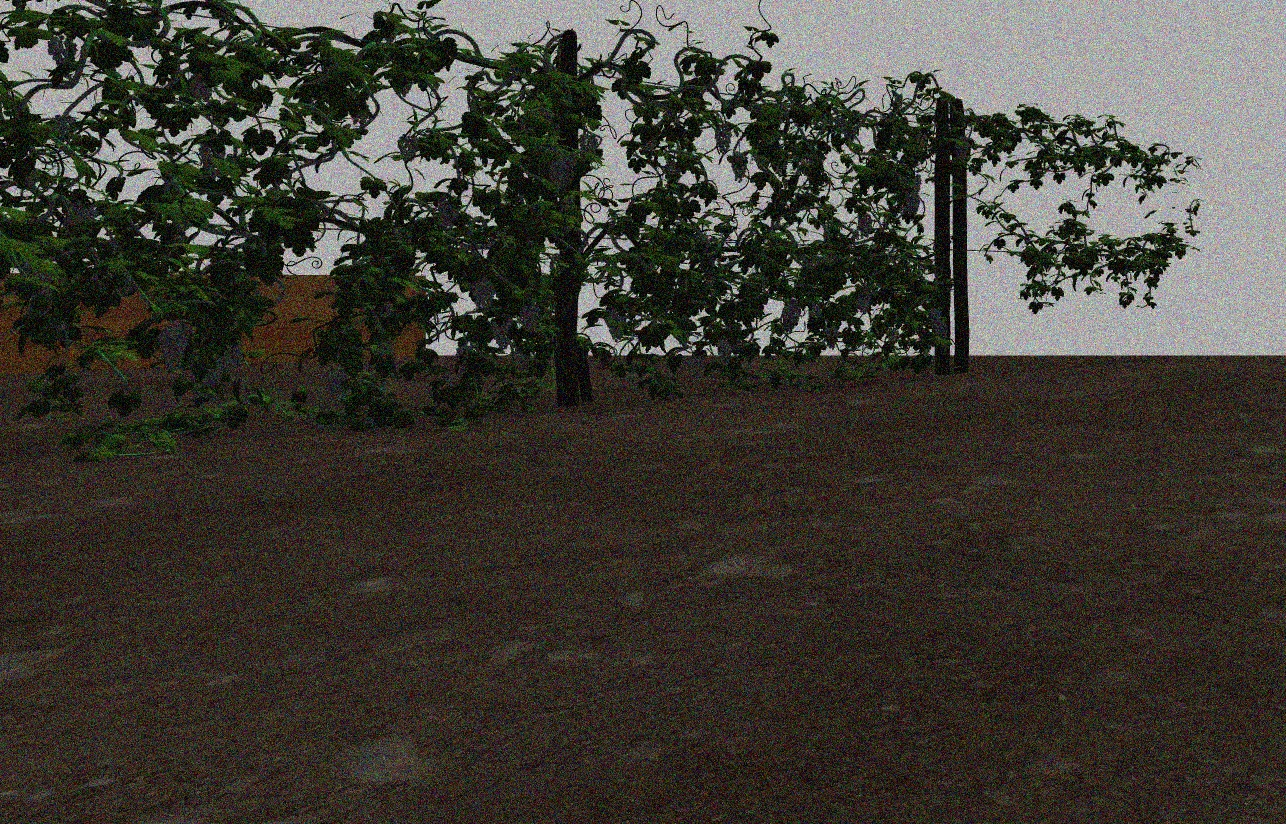grape: (158, 321, 190, 366), (323, 366, 353, 408), (48, 34, 77, 71), (547, 151, 575, 187), (489, 315, 512, 353), (900, 180, 922, 218), (471, 279, 497, 311), (779, 299, 803, 332), (437, 194, 460, 228), (604, 306, 626, 341), (519, 303, 543, 333), (577, 131, 600, 160), (200, 359, 223, 388), (189, 73, 212, 101), (222, 342, 245, 369), (397, 134, 419, 161), (728, 152, 748, 181), (685, 353, 705, 381), (928, 308, 948, 336), (714, 126, 731, 154), (855, 288, 872, 316), (856, 214, 875, 236), (953, 136, 968, 163), (885, 326, 900, 344)
